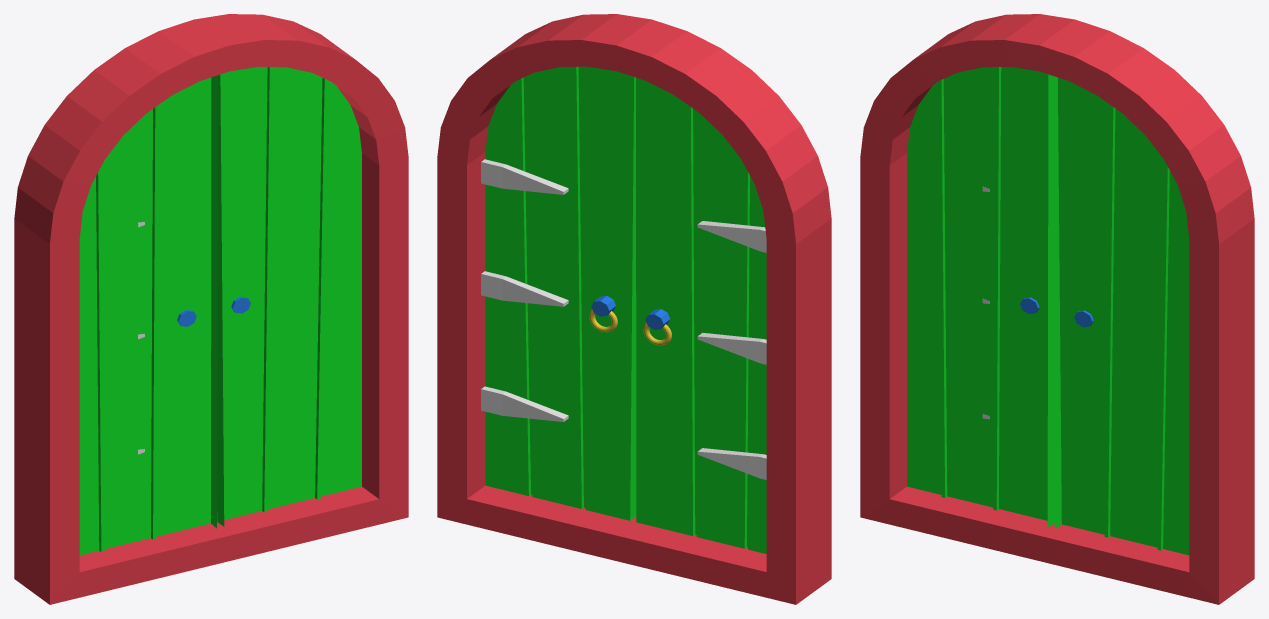
File: Closed_door.glb
The picture shows the model from 3 angles, left to right: view 1: azimuth 30°, elevation 25°; view 2: azimuth 150°, elevation 25°; view 3: azimuth 330°, elevation 25°; orthographic projection.
Visible parts, largest first — view 1: Door; view 2: Door, links schanieren.001, links schanieren, handvat.003, handvat; view 3: Door.
Boxes of the visible parts, <box> form: Door: <box>14,14,408,604</box>; Door: <box>437,14,831,604</box>; links schanieren.001: <box>481,159,568,421</box>; links schanieren: <box>697,221,766,479</box>; handvat.003: <box>589,295,617,332</box>; handvat: <box>643,309,671,345</box>; Door: <box>860,14,1254,604</box>.
Bounding box in the file's own units: 3.74 × 5.14 × 0.6453.
